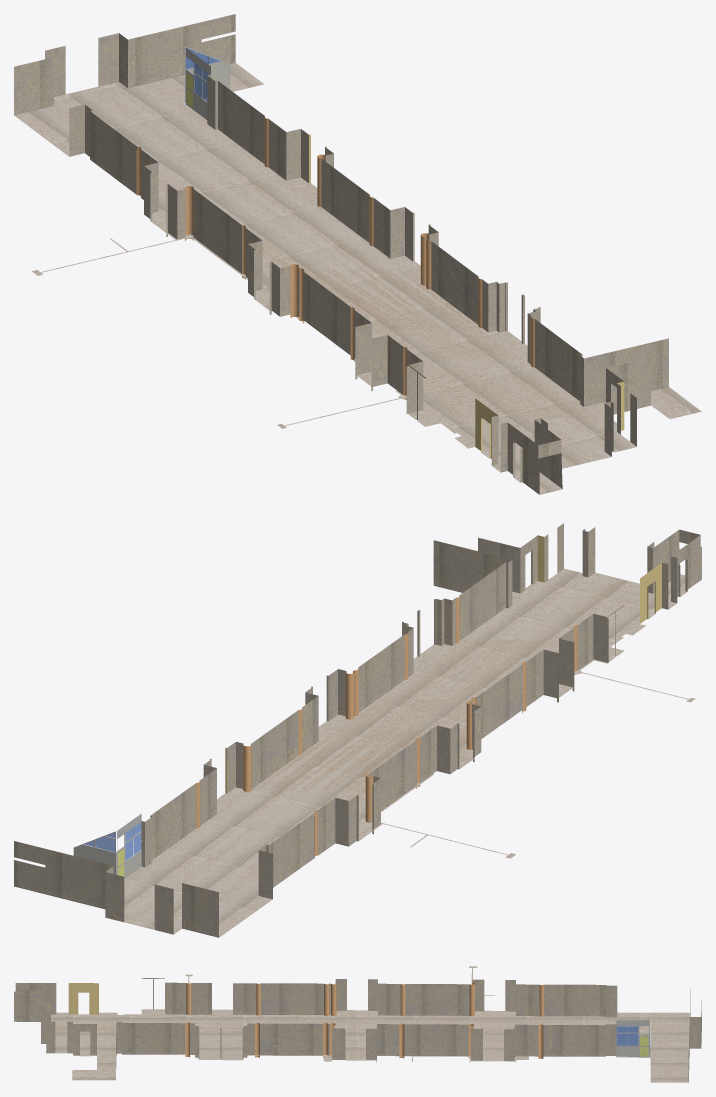
The model's file is COM001.obj.
The picture shows the model from 3 angles, top to bottom: view 1: azimuth 30°, elevation 25°; view 2: azimuth 150°, elevation 25°; view 3: azimuth 270°, elevation 25°; orthographic projection. The views are drawn at different scales.
Visible parts, largest first — view 1: Mesh5 COM001 Model, Mesh6 COM001 Model; view 2: Mesh5 COM001 Model, Mesh6 COM001 Model; view 3: Mesh5 COM001 Model, Mesh1 puerta3a1 COM001 Model.
Part boxes in pixels (box(x1,y1,x2,y2)): Mesh5 COM001 Model: box(14, 14, 701, 494); Mesh6 COM001 Model: box(184, 46, 230, 102); Mesh5 COM001 Model: box(14, 523, 701, 937); Mesh6 COM001 Model: box(73, 831, 115, 874); Mesh5 COM001 Model: box(14, 966, 701, 1082); Mesh1 puerta3a1 COM001 Model: box(638, 1035, 649, 1057).
Bounding box in the file's own units: 23.68 × 3.75 × 59.13.
Materials: 9 (2 with a texture image).
